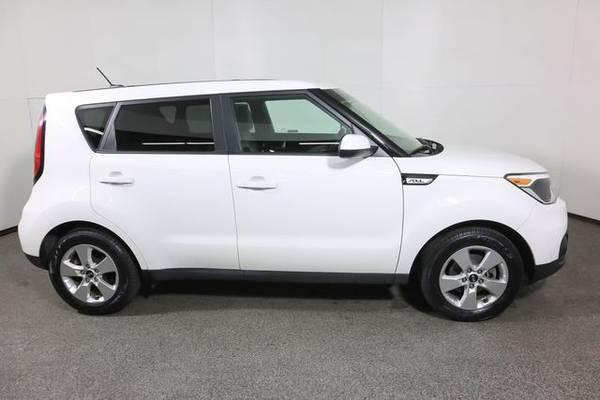Front_Bumper: (515, 198, 569, 279)
Front_Fender: (396, 175, 537, 278)
Front_Right_Door: (229, 154, 402, 278)
Front_Right_Window: (218, 89, 391, 155)
Front_Windshield: (326, 91, 440, 157)
Hood: (392, 136, 547, 178)
Rear_Fender: (17, 101, 121, 265)
Rear_Right_Door: (85, 153, 235, 278)
Rear_Right_Window: (99, 95, 231, 156)
Right_Headlight: (504, 171, 560, 206)
Right_Taillight: (34, 105, 45, 184)
Roof: (43, 78, 401, 158)
Wheel: (418, 230, 522, 317), (43, 228, 135, 312)
